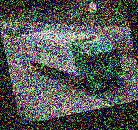truck: (22, 16, 127, 104)
